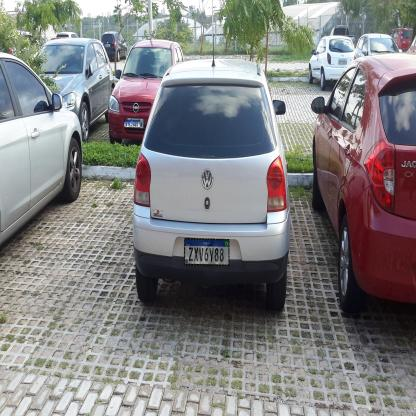PlacaM: (184, 238, 229, 266), (124, 120, 140, 128)
